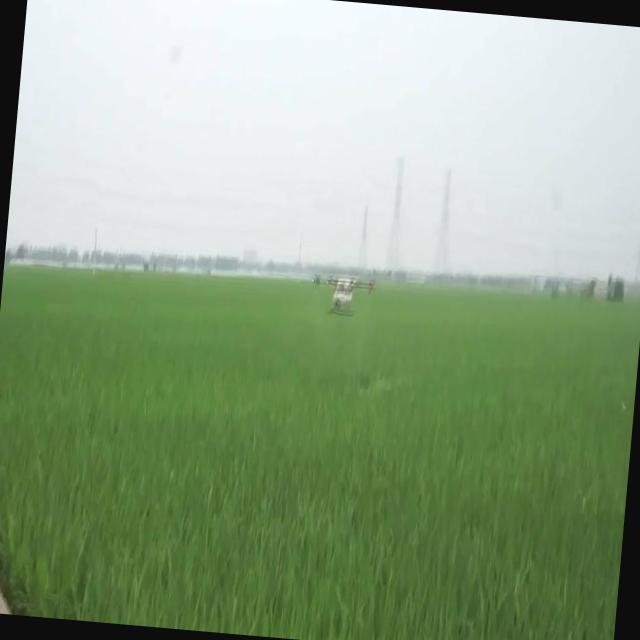drone: (305, 268, 377, 318)
